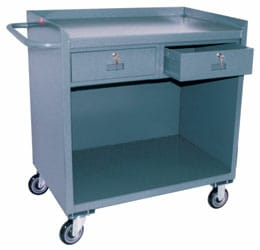Carts: (6, 6, 255, 245)
